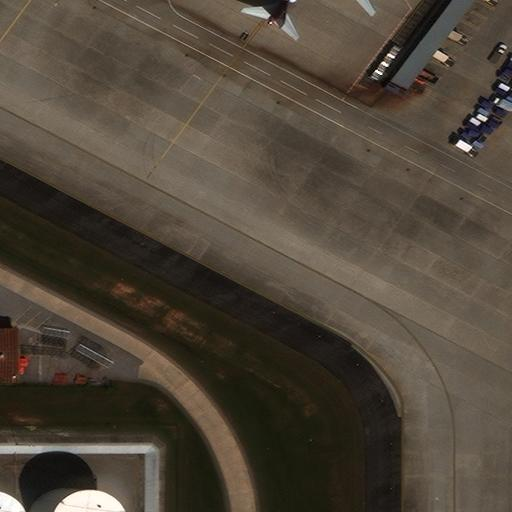Large Civil Transport: (259, 0, 376, 25)
